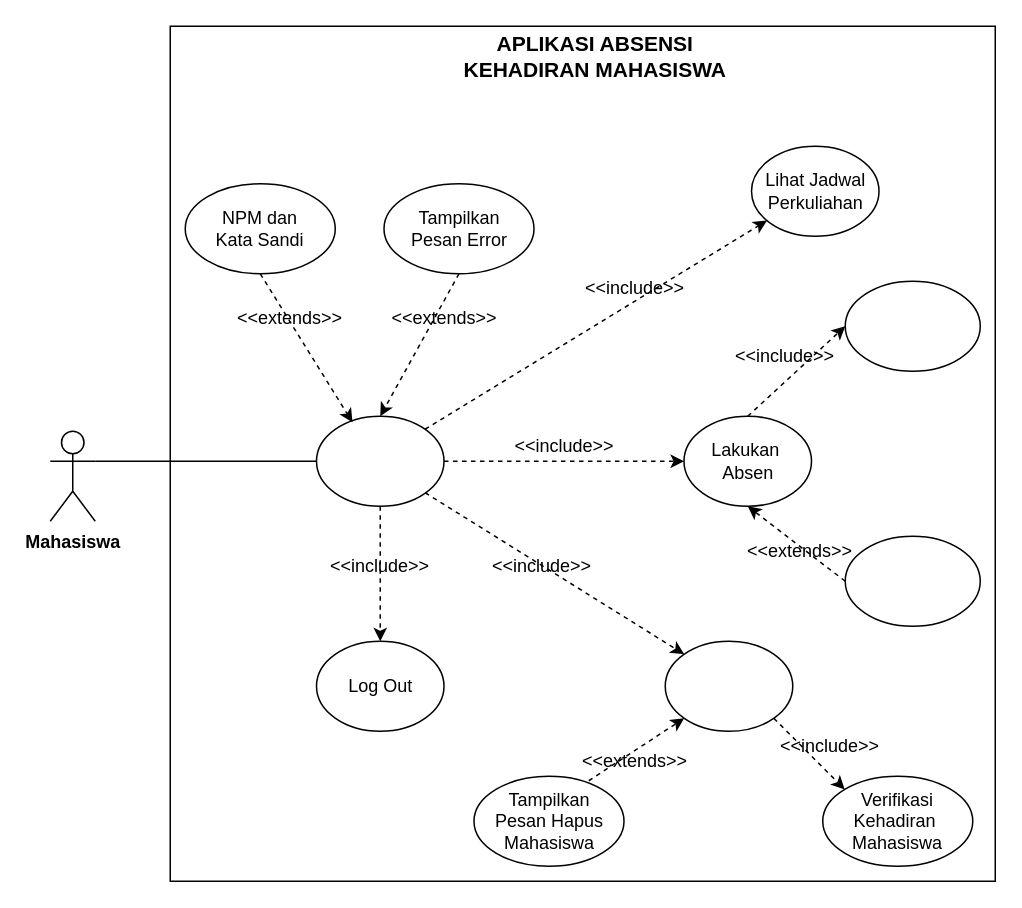
Image size: 1022x908. Some labels were removed from this diagram. Here are the shapes that lost their labels. From the top down, the box of each, then its label:
(844, 280, 980, 371): Hidupkan Bluetooth
(315, 415, 444, 506): Log In
(844, 535, 980, 626): Gagal Absen
(664, 640, 793, 731): Lihat Profil
